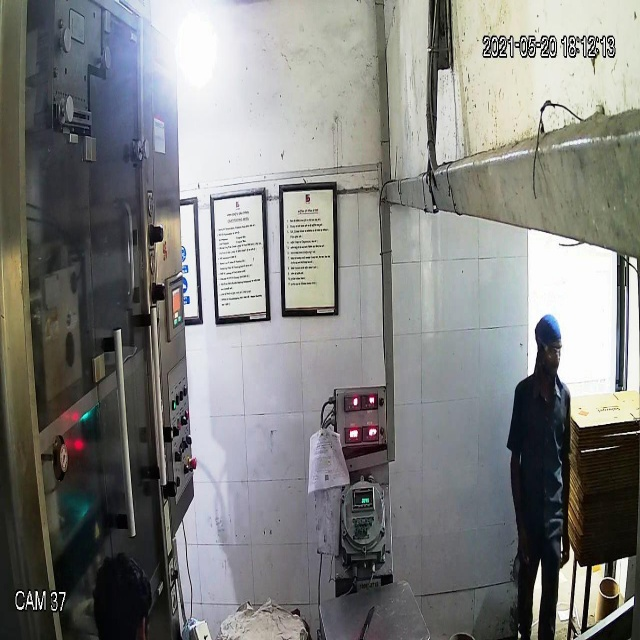Gafas: (533, 334, 565, 364)
